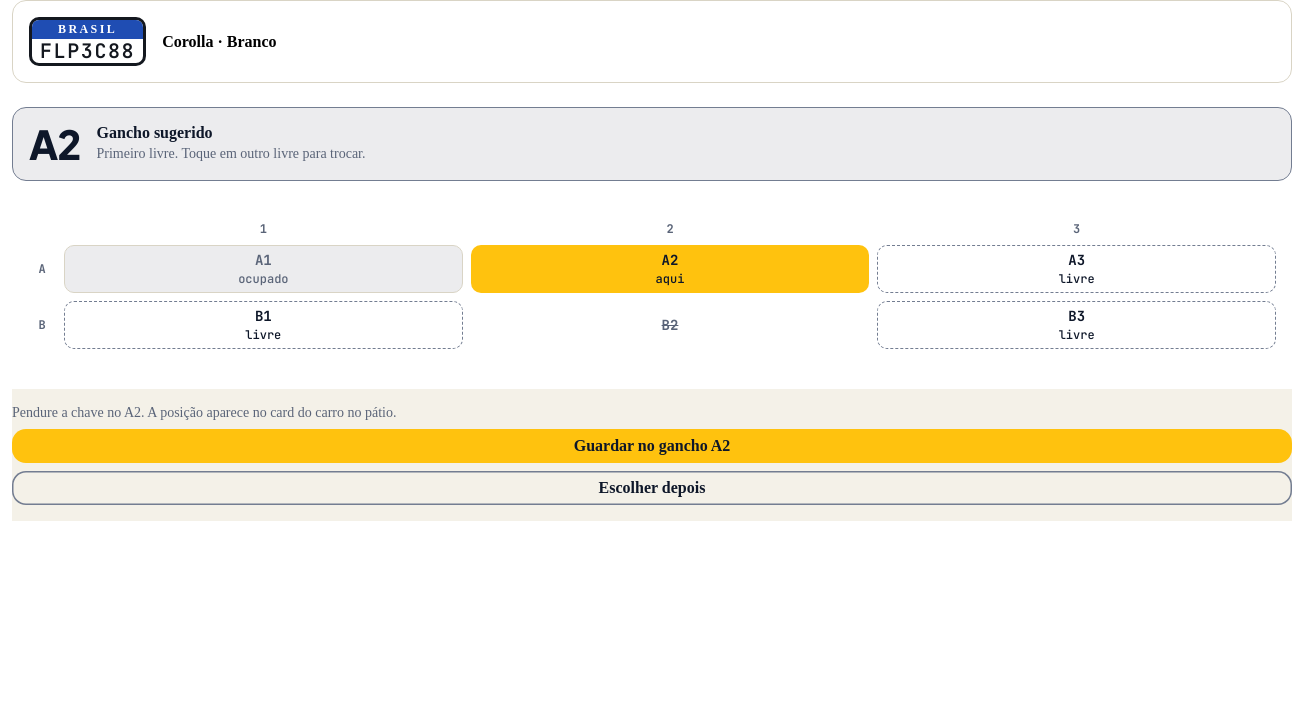
it: EscolherGancho › conflito mostra a placa que ocupa, recarrega a grade e volta à sugestão
Click the button "Guardar no gancho A2" at (652, 446), box x1=12 y1=429 x2=1292 y2=463
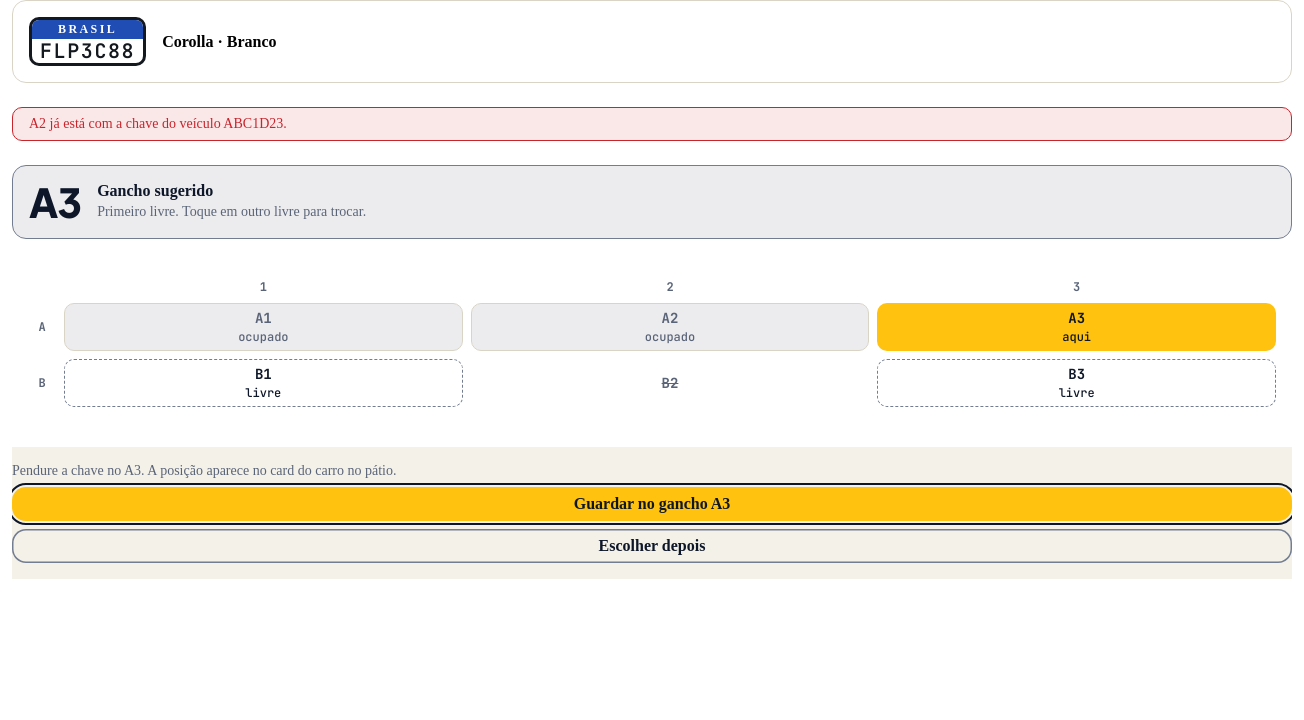
Expected: the message "A2 já está com a chave do veículo ABC1D23." is shown, x1=12 y1=107 x2=1292 y2=141
Expected: the button "Guardar no gancho A3" is shown, x1=12 y1=487 x2=1292 y2=521
Expected: the picture named "A2, ocupado" is shown, x1=471 y1=303 x2=869 y2=351
